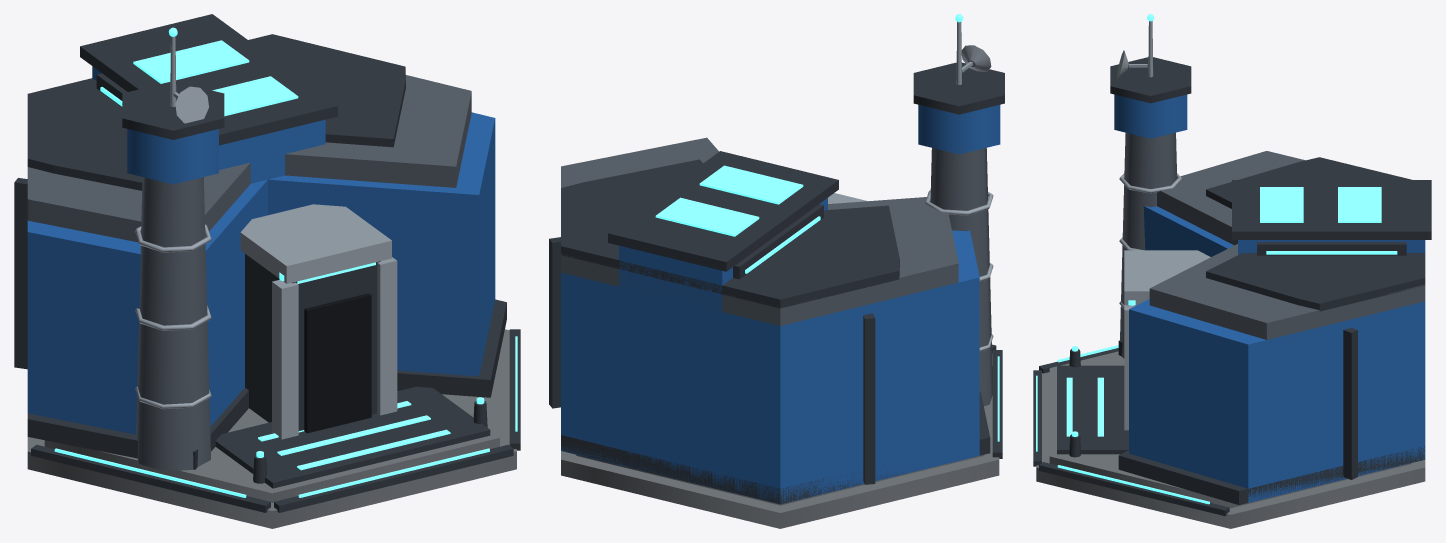
File: forge-depot-tile-s.glb
3 views of the same model, side by side, from view 1: azimuth 30°, elevation 25°; view 2: azimuth 150°, elevation 25°; view 3: azimuth 270°, elevation 25° (orthographic). The views are drawn at different scales.
Visible parts, largest first — view 1: edge_trim_s_0, hull_body_s, hull_roof_s, portal_lintel, base_plate_s, edge_glow_s_0, portal_void; view 2: hull_body_s, edge_trim_s_0, hull_roof_s, base_plate_s, edge_glow_s_0, portal_lintel; view 3: hull_body_s, edge_trim_s_0, hull_roof_s, base_plate_s, edge_glow_s_0, portal_lintel.
Part boxes in pixels (<box>): edge_trim_s_0: <box>14,14,520,512</box>; hull_body_s: <box>27,66,495,434</box>; hull_roof_s: <box>27,75,471,471</box>; portal_lintel: <box>135,36,397,439</box>; base_plate_s: <box>27,329,516,528</box>; edge_glow_s_0: <box>54,27,517,497</box>; portal_void: <box>304,293,371,433</box>; hull_body_s: <box>561,104,1000,503</box>; edge_trim_s_0: <box>549,62,1004,504</box>; hull_roof_s: <box>561,137,993,406</box>; base_plate_s: <box>561,353,999,528</box>; edge_glow_s_0: <box>655,14,999,441</box>; portal_lintel: <box>828,21,993,351</box>; hull_body_s: <box>1114,94,1425,502</box>; edge_trim_s_0: <box>1033,57,1431,516</box>; hull_roof_s: <box>1120,132,1425,358</box>; base_plate_s: <box>1036,351,1425,528</box>; edge_glow_s_0: <box>1036,14,1397,504</box>; portal_lintel: <box>1117,21,1210,430</box>.
Size of the model in its own units: 14.41 by 12.79 by 12.76.
